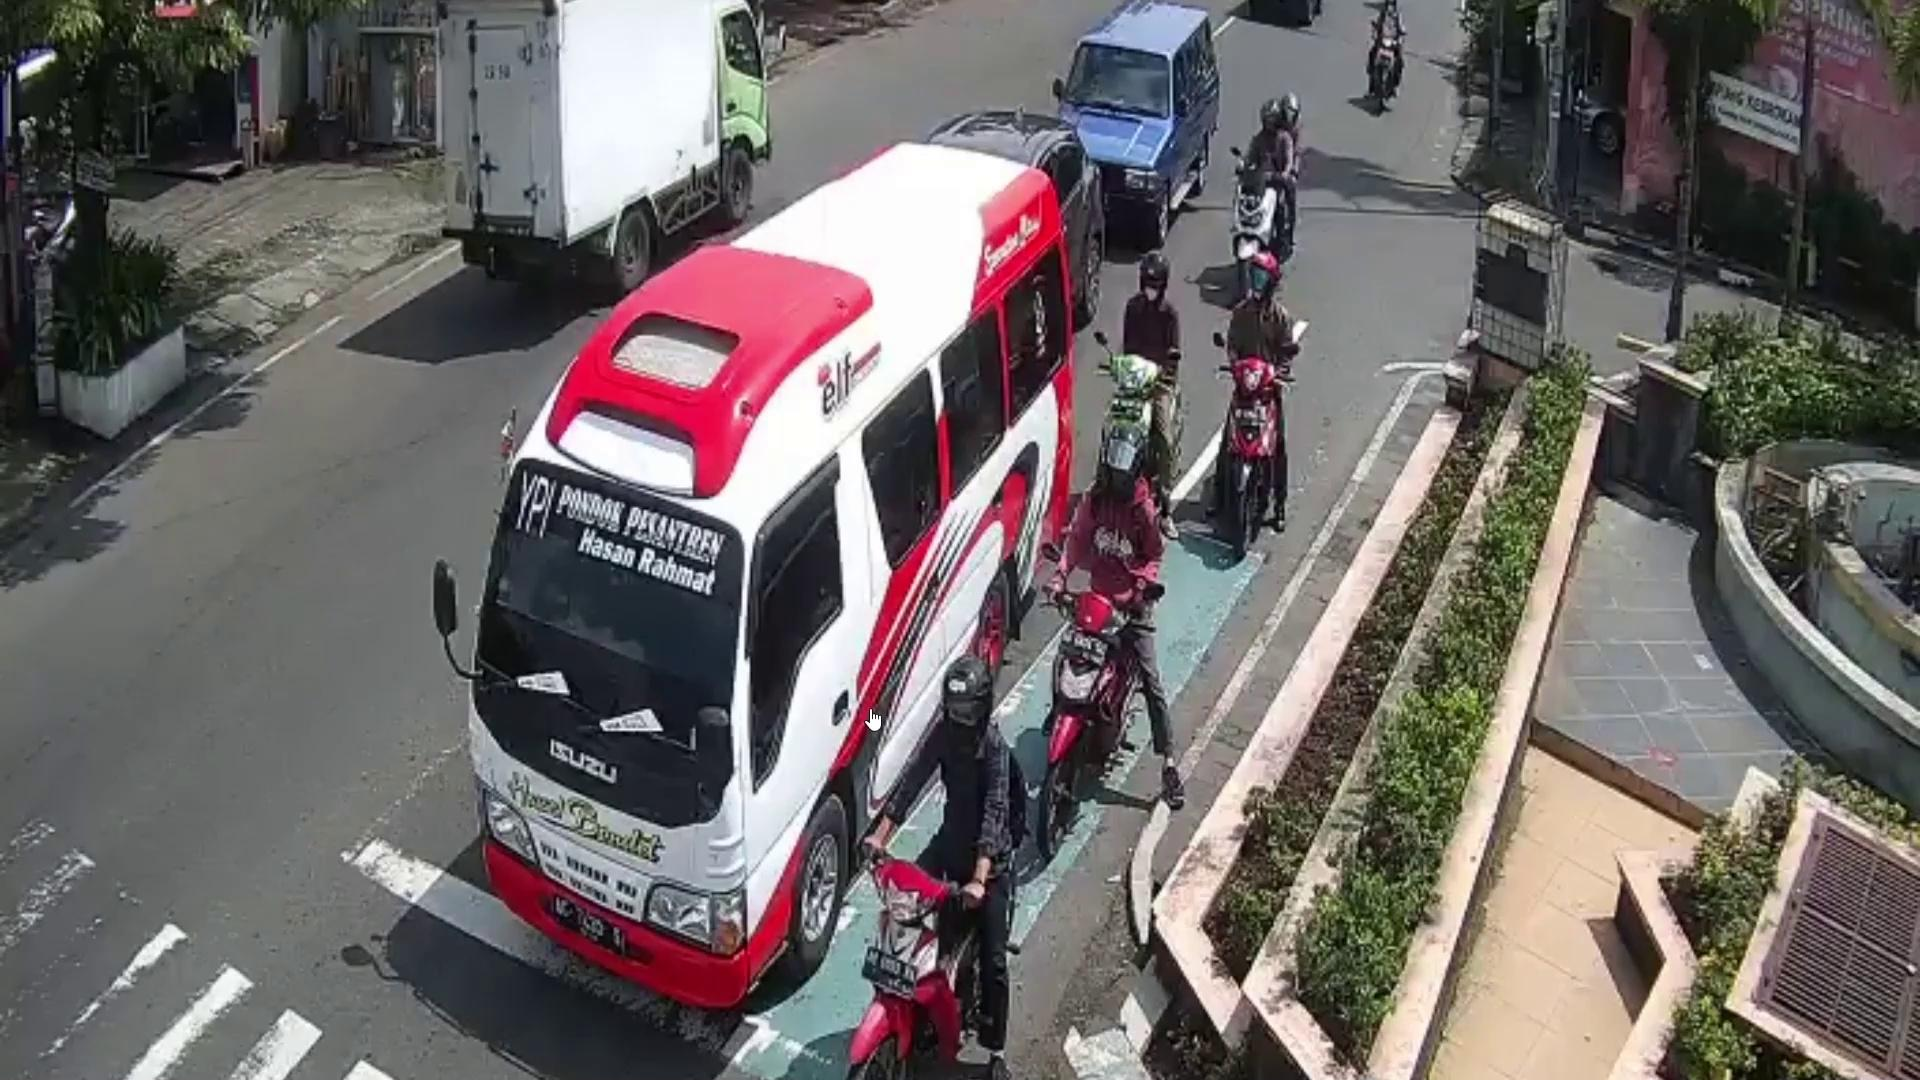bus: (471, 138, 1073, 1002)
car: (1052, 0, 1221, 244), (938, 105, 1110, 310)
motorbike: (856, 847, 997, 1080), (1047, 585, 1138, 848), (1089, 353, 1170, 526), (1228, 365, 1280, 555), (1229, 170, 1273, 295), (1373, 32, 1408, 119)
truck: (429, 0, 777, 285)
